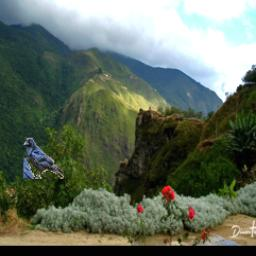Crow: (23, 138, 64, 180)
